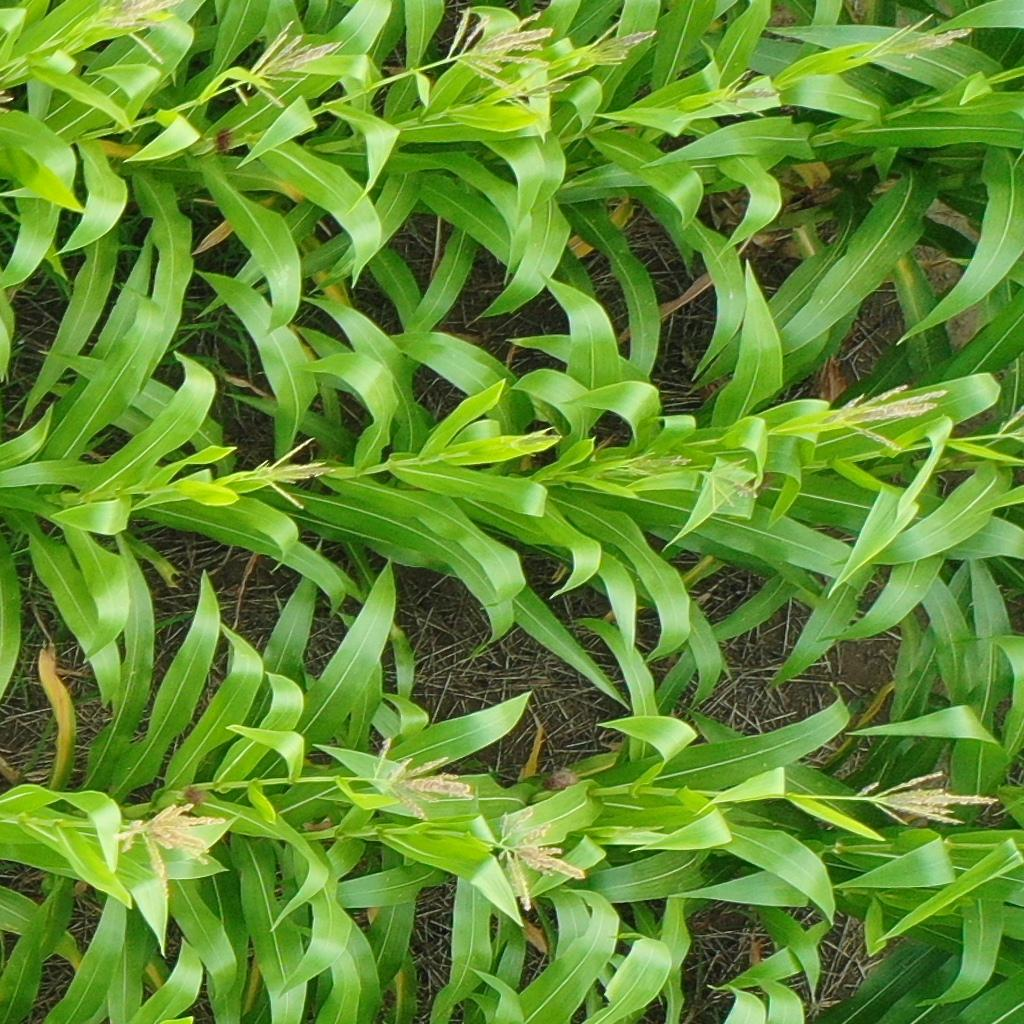Tassel: (489, 804, 588, 912), (235, 20, 346, 116), (115, 800, 227, 889), (443, 3, 555, 88), (822, 384, 950, 453), (370, 739, 475, 821), (855, 772, 1000, 826), (248, 436, 337, 512), (89, 1, 190, 66), (864, 13, 974, 59), (506, 65, 587, 118), (700, 456, 762, 515), (584, 23, 659, 71), (707, 70, 779, 119), (604, 449, 693, 484), (510, 423, 562, 462), (998, 401, 1024, 442), (1, 89, 13, 118)
